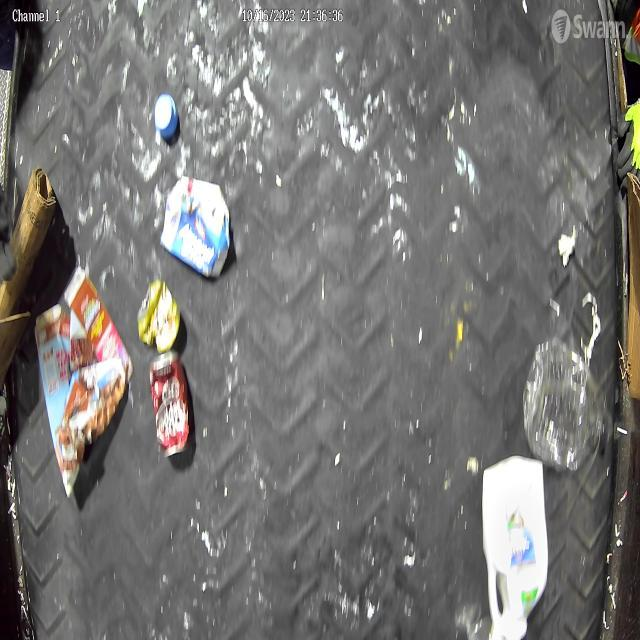can: (149, 350, 191, 460), (138, 278, 182, 354)
milk_jug: (481, 454, 549, 640)
plastic_bottle: (522, 335, 606, 472)
